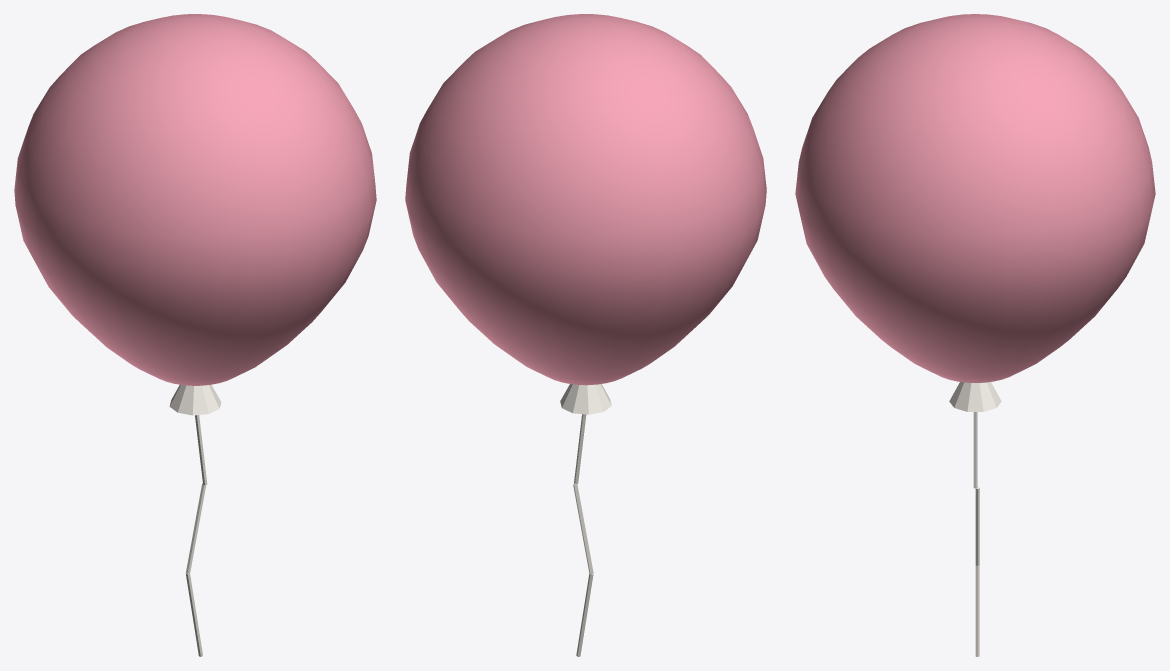
Rendered from balloon.glb.
3 renders of one model, left to right at view 1: azimuth 30°, elevation 25°; view 2: azimuth 150°, elevation 25°; view 3: azimuth 270°, elevation 25°, orthographic.
Parts seen in each view (by area): view 1: Balloon; view 2: Balloon; view 3: Balloon.
Boxes of the visible parts, x1=… form: Balloon: x1=14, y1=14, x2=376, y2=656; Balloon: x1=405, y1=14, x2=766, y2=656; Balloon: x1=795, y1=14, x2=1155, y2=656.
Bounding box in the file's own units: 0.96 × 1.83 × 0.96.
